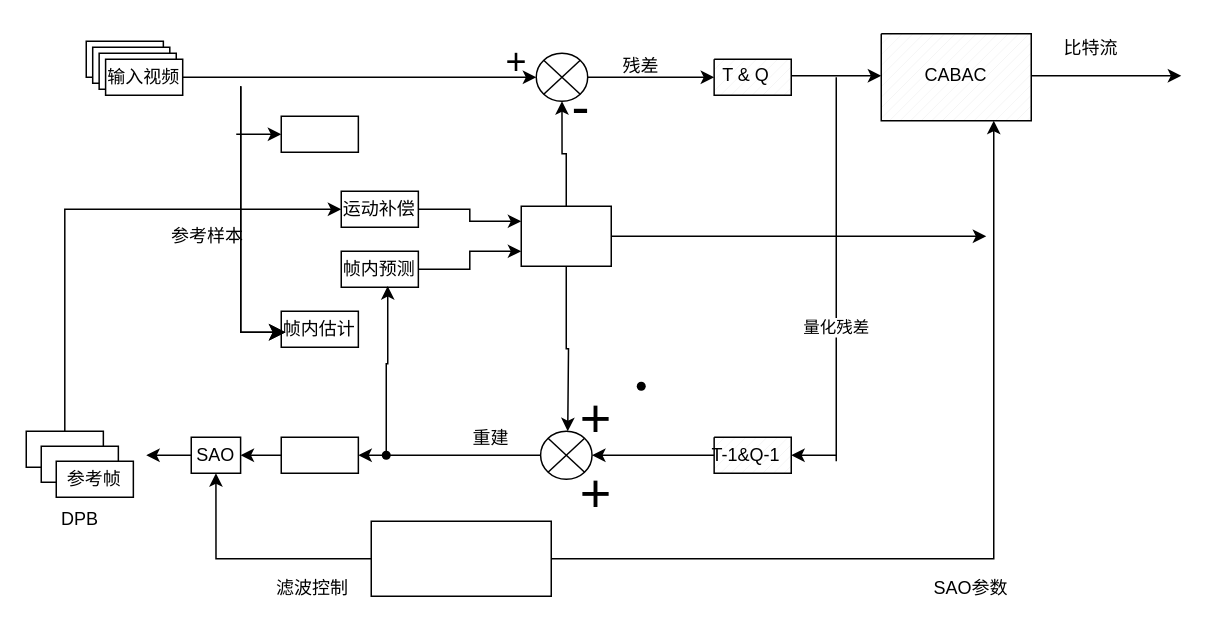
This 1220x636 diagram has some shape labels left out. Here are the shapes that lost their labels. From the top down, the centre of each, then its label:
At point (319, 133): "运动估计".
At point (565, 235): "帧间/帧内决策".
At point (319, 454): "去块滤波".
At point (460, 558): "SAO参数估计".
